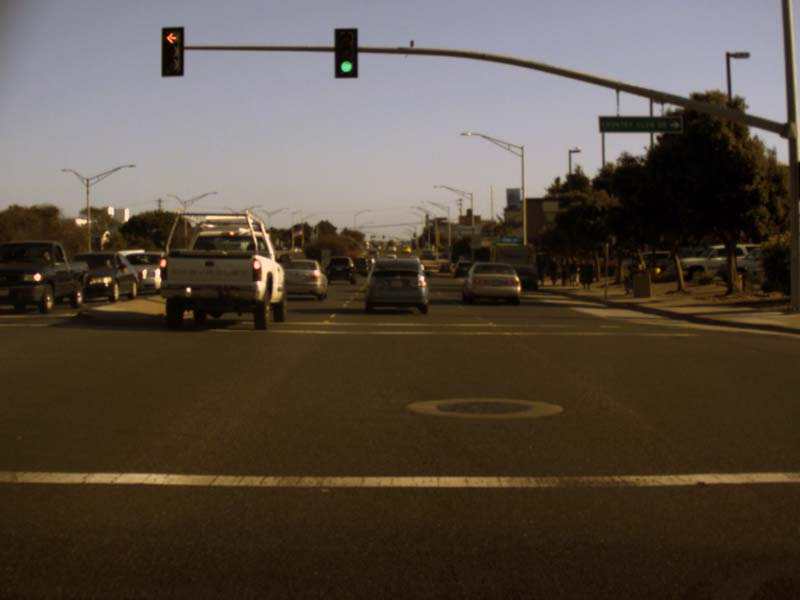Green: (334, 28, 356, 78)
Red: (161, 27, 182, 77)
